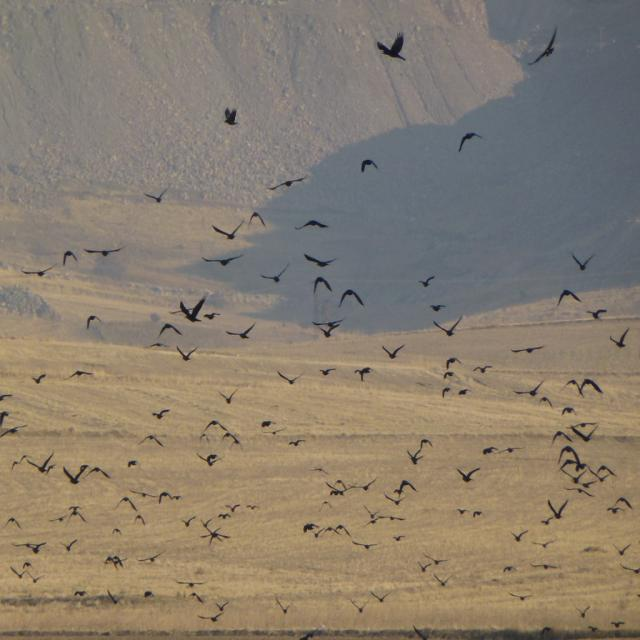bird: (532, 25, 559, 67), (377, 34, 408, 64), (178, 296, 206, 324), (512, 378, 548, 398), (406, 441, 433, 466), (296, 217, 330, 236), (225, 322, 257, 342), (211, 221, 241, 242), (338, 286, 366, 308), (576, 379, 606, 399), (29, 454, 56, 476), (457, 131, 482, 154), (261, 264, 289, 284), (304, 253, 335, 271), (607, 328, 631, 351), (86, 244, 122, 259), (434, 317, 462, 336), (63, 465, 87, 487), (571, 251, 595, 273), (381, 342, 406, 362), (314, 320, 340, 339), (588, 466, 618, 482), (572, 427, 598, 445), (158, 323, 184, 341), (18, 266, 57, 278), (212, 255, 243, 270), (247, 210, 269, 231), (390, 481, 417, 498), (456, 467, 481, 485), (559, 288, 584, 306), (274, 369, 300, 386), (546, 501, 568, 521), (64, 505, 87, 524), (320, 317, 344, 335), (1, 413, 17, 440), (173, 576, 206, 589), (201, 531, 231, 545), (9, 452, 30, 472), (281, 175, 308, 190), (358, 156, 378, 176), (114, 496, 139, 512), (584, 306, 608, 322), (218, 389, 238, 408), (508, 346, 546, 356), (176, 346, 199, 362), (563, 486, 593, 498), (559, 470, 589, 482), (144, 434, 166, 450), (422, 551, 449, 564), (108, 588, 125, 608), (198, 451, 219, 467), (313, 276, 331, 294), (441, 366, 459, 384), (416, 274, 436, 290), (24, 542, 44, 558), (567, 378, 587, 394), (126, 489, 158, 499), (70, 368, 94, 381), (146, 192, 168, 206), (223, 107, 237, 129), (384, 493, 406, 507), (105, 554, 125, 569), (150, 407, 170, 422), (357, 479, 380, 492), (93, 468, 114, 482), (382, 512, 406, 524), (558, 447, 580, 460), (355, 368, 374, 383), (349, 598, 368, 613), (223, 504, 243, 518), (327, 482, 347, 496), (532, 562, 557, 573), (85, 314, 102, 330), (10, 566, 27, 582), (443, 358, 461, 373), (551, 431, 569, 446), (62, 252, 78, 268), (276, 597, 290, 615), (30, 372, 48, 386), (148, 339, 167, 352), (474, 365, 494, 377), (371, 591, 391, 603), (350, 540, 380, 548), (30, 572, 47, 586), (615, 498, 633, 511), (0, 411, 10, 434), (540, 396, 555, 411), (365, 503, 380, 518), (266, 183, 282, 197), (615, 544, 632, 557), (46, 513, 68, 523), (319, 526, 338, 537), (434, 576, 450, 589), (181, 516, 198, 528), (511, 532, 528, 544), (302, 523, 319, 535), (310, 465, 330, 475), (288, 438, 306, 449), (439, 386, 454, 399), (213, 603, 228, 616), (62, 540, 78, 552), (430, 302, 446, 314), (202, 310, 218, 322), (454, 387, 470, 399), (607, 506, 624, 517), (205, 418, 222, 429), (8, 517, 22, 530), (363, 519, 381, 529), (259, 419, 275, 430), (146, 553, 162, 564), (0, 391, 11, 407), (539, 540, 555, 551), (317, 368, 334, 378), (534, 626, 551, 636), (192, 592, 206, 604), (230, 438, 242, 452), (317, 500, 331, 512), (512, 593, 530, 602), (559, 407, 575, 417), (157, 494, 170, 506), (126, 457, 139, 469), (132, 513, 145, 525), (218, 512, 235, 521), (481, 446, 496, 456), (578, 608, 590, 620), (220, 432, 236, 441), (336, 525, 349, 536), (207, 614, 221, 624), (73, 589, 86, 599), (506, 446, 520, 455), (141, 590, 153, 600), (417, 565, 429, 575), (609, 619, 624, 627), (394, 535, 407, 544), (540, 517, 553, 526), (503, 566, 517, 574), (198, 431, 208, 442), (472, 511, 484, 520), (200, 518, 212, 527), (20, 560, 32, 568), (245, 504, 258, 511), (457, 508, 468, 516), (111, 528, 122, 536), (173, 492, 181, 502), (589, 625, 599, 632)
